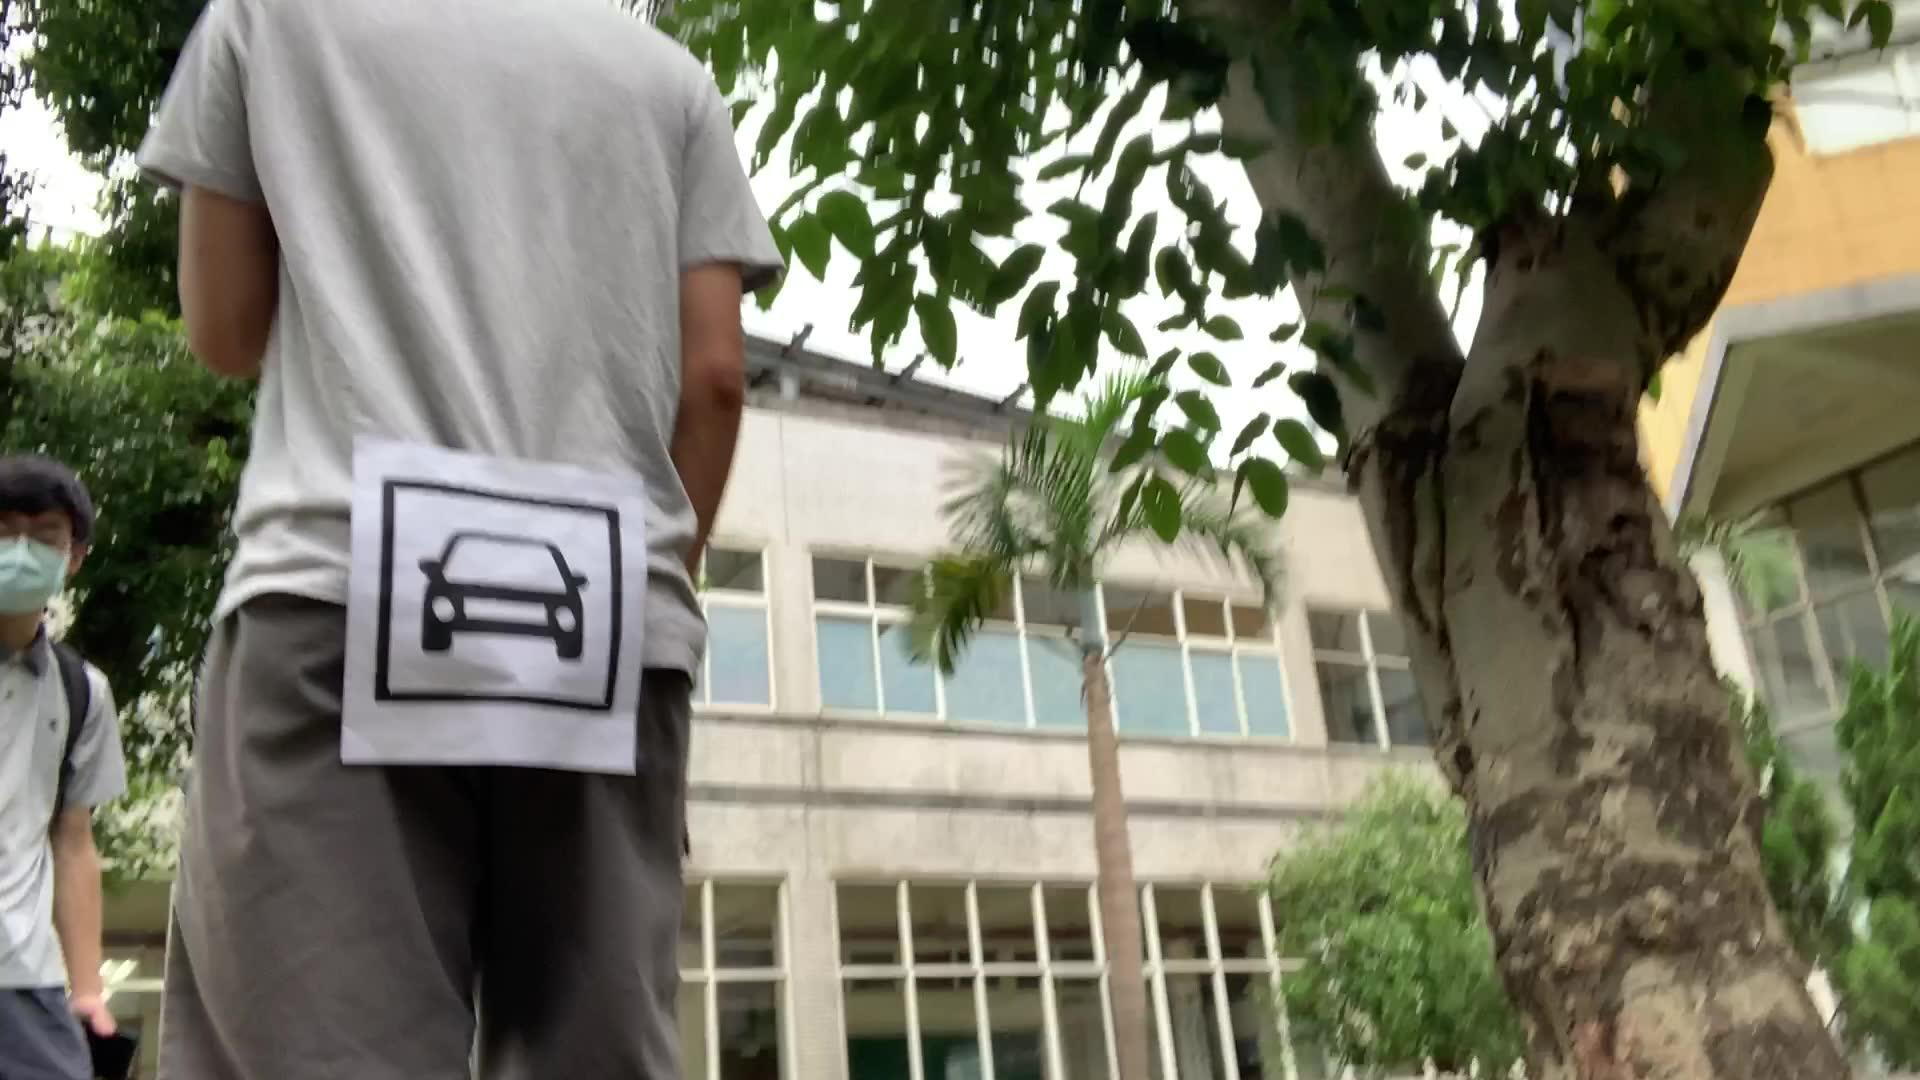car_img: (375, 473, 624, 713)
